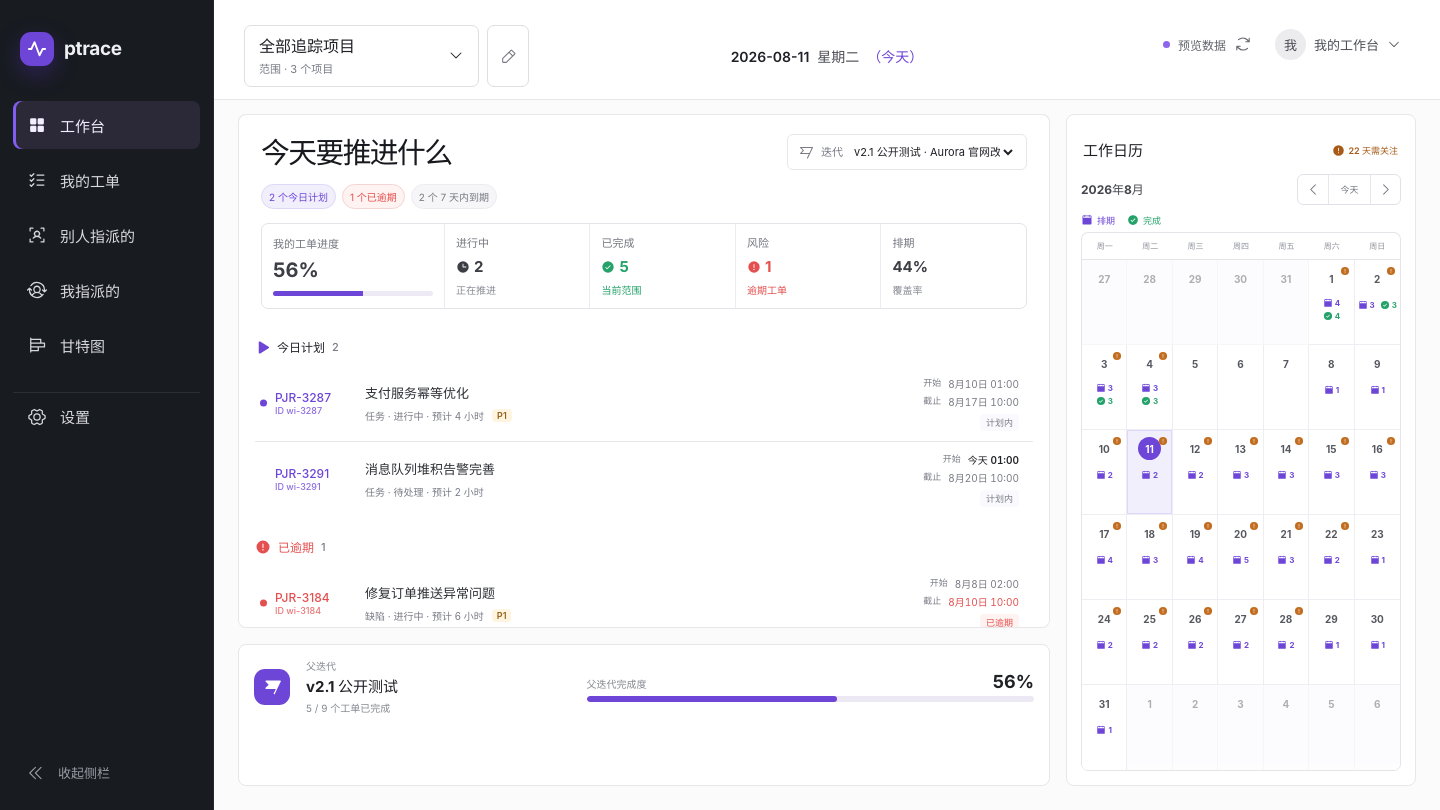
it: PtraceDesk core interactions › filters the dashboard by project
Select "数据导出优化" in the dropdown named "项目范围" at (362, 56), box [245,26,478,86]
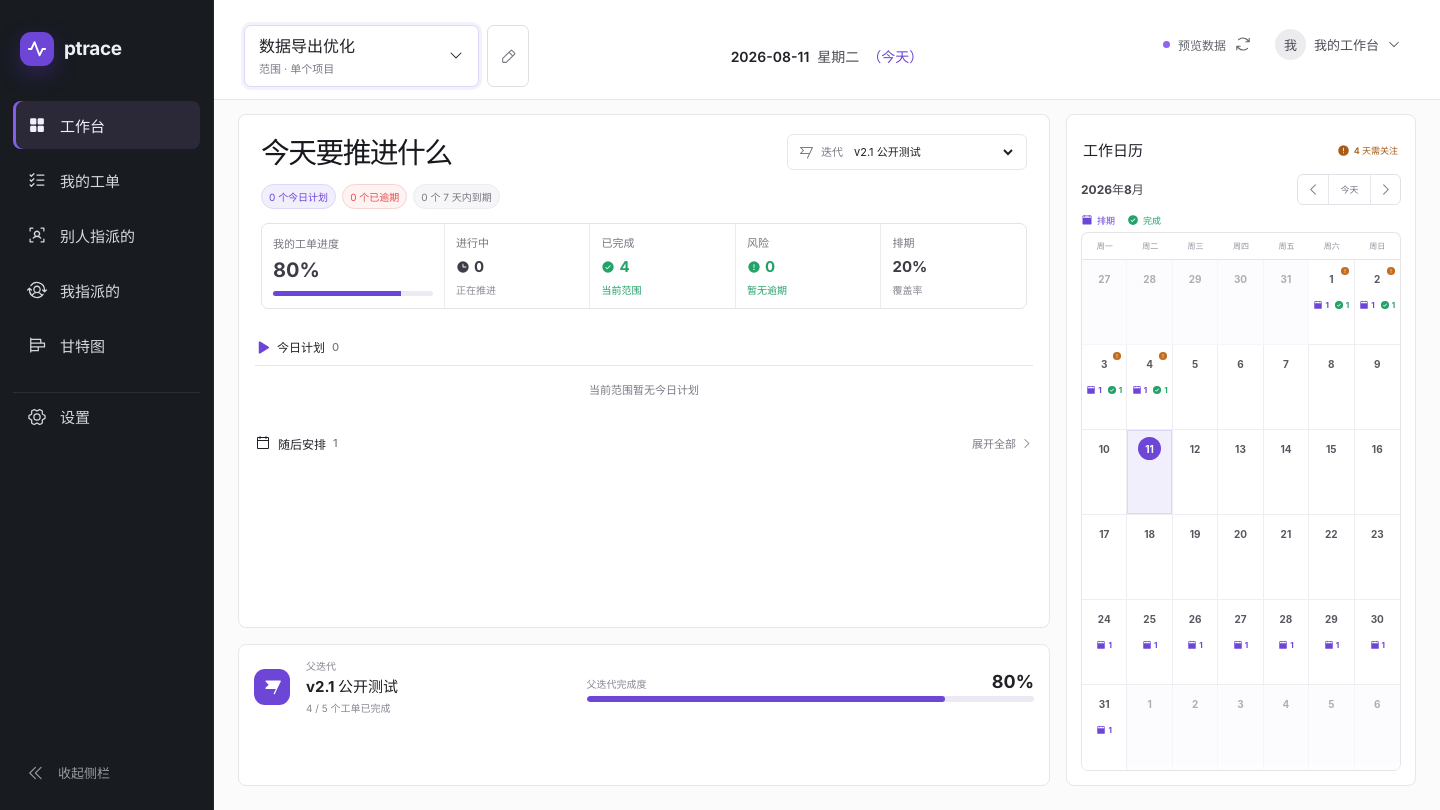
Click the button "甘特图" at (106, 345), box [13,321,200,369]
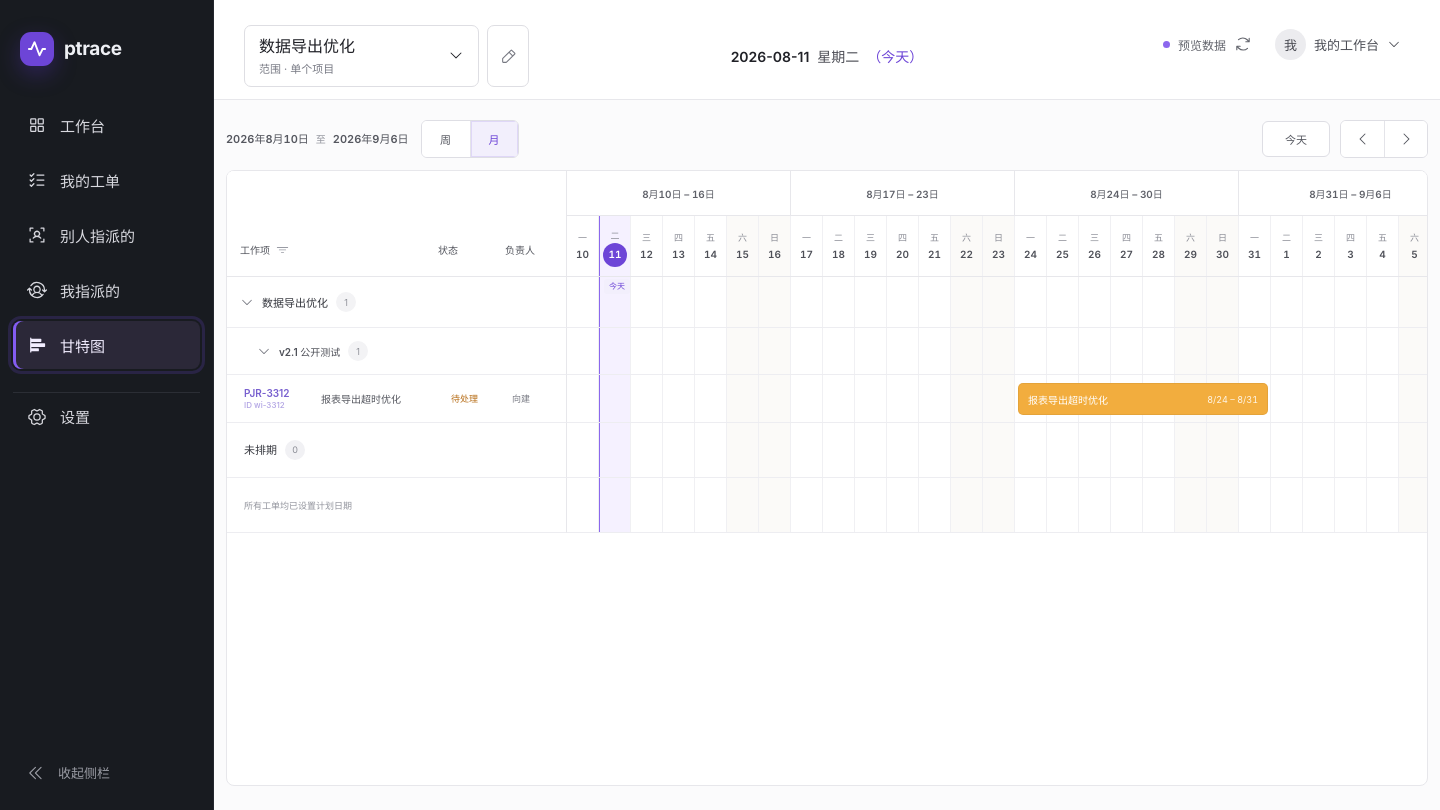
Check: the button "支付服务幂等优化" is not shown
Check: the 1st text "报表导出超时优化" is shown, box [321,393,401,405]
